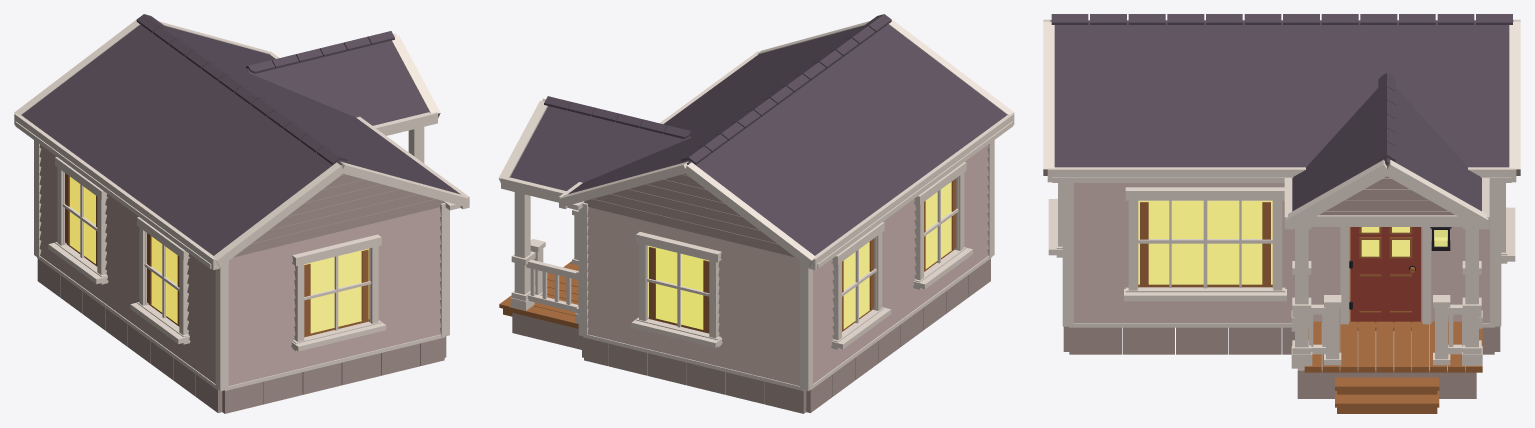
File: bld.house-a.lod1.glb
3 views of the same model, side by side, from view 1: azimuth 30°, elevation 25°; view 2: azimuth 150°, elevation 25°; view 3: azimuth 270°, elevation 25° (orthographic). The views are drawn at different scales.
Visible parts, largest first — view 1: roof, body, window_left, window_rearL, window_rearR; view 2: roof, body, window_right, window_rearL, window_rearR; view 3: roof, body, window_front, door_front, window_right, window_left, object 10.
Boxes of the visible parts, x1,y1,x2,y2 form: roof: (14,14,469,270); body: (34,127,449,413); window_left: (291,234,386,351); window_rearL: (48,157,108,284); window_rearR: (130,217,190,344); roof: (498,14,1014,269); body: (499,140,994,413); window_right: (631,232,722,347); window_rearL: (831,222,891,349); window_rearR: (913,162,972,289); roof: (1043,14,1520,229); body: (1062,183,1501,413); window_front: (1124,187,1286,301); door_front: (1349,227,1420,322); window_right: (1501,183,1515,263); window_left: (1048,183,1062,257); object 10: (1430,227,1451,250).
Size of the model in its own units: 7.14 by 4.56 by 7.17.
